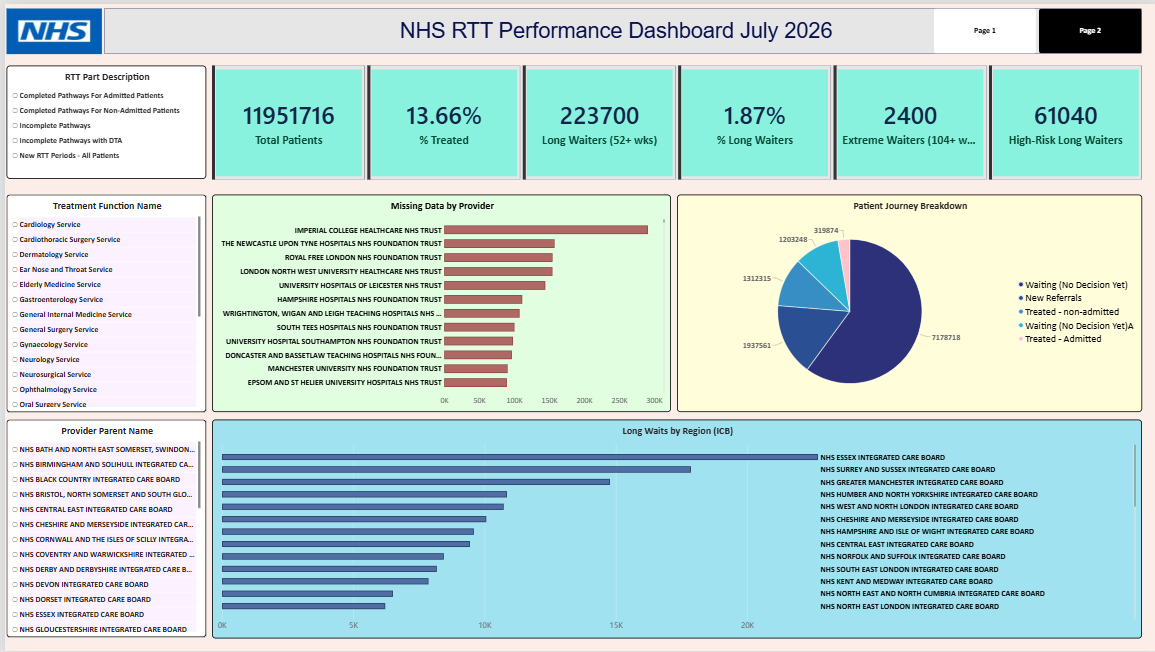

The dashboard page shown, as its layout file describes it:
{"tool":"powerbi","page":{"name":"Page 2","canvas":[3840,2160],"ordinal":1},"visuals":[{"type":"cardVisual","fields":{"Data":["NHS_Rtt.Total patient","NHS_Rtt.Percentage_of_Patients_Treated","NHS_Rtt.Long_Wait_volume","NHS_Rtt.Percentage_long_wait_volume","NHS_Rtt.Extreme_long_wait","NHS_Rtt.High_risk_long_wait"]},"box":[690,205,3100,380],"z":0},{"type":"shape","box":[331.1,16.7,3458.9,150],"z":1000},{"type":"clusteredBarChart","title":"Missing Data by Provider","fields":{"Category":["NHS_Rtt.Provider Org Name"],"Y":["NHS_Rtt.Total Null Count"]},"box":[690,635,1530,725],"z":5000},{"type":"pieChart","title":"Patient Journey Breakdown","fields":{"Category":["NHS_Rtt.RTT Part Type Duplicate"],"Y":["NHS_Rtt.Total patient"]},"box":[2238,634.7,1550.8,725.3],"z":6000},{"type":"barChart","title":"Long Waits by Region (ICB)","fields":{"Category":["NHS_Rtt.Provider Parent Name"],"Y":["NHS_Rtt.Long_Wait_volume"]},"box":[690,1385,3100,730],"z":8000},{"type":"image","box":[6,14,318,152],"z":9000},{"type":"textbox","box":[332,46,3414,120],"z":10000},{"type":"pageNavigator","box":[3095,15,695,150],"z":11000},{"type":"listSlicer","fields":{"Values":["NHS_Rtt.RTT Part Description"]},"box":[4.3,206.3,666.1,378.2],"z":11001},{"type":"listSlicer","fields":{"Values":["NHS_Rtt.Treatment Function Name"]},"box":[4.3,636,666.1,726.2],"z":11002},{"type":"listSlicer","fields":{"Values":["NHS_Rtt.Provider Parent Name"]},"box":[4.3,1383.7,666.1,726.2],"z":11003}]}

Visuals, with their boxes in screenshot pixels (x1, y1, x2, y2), scaled from the page's 3840x2160 canvas onto the 1155x652 screenshot:
cardVisual - NHS_Rtt.Total patient x NHS_Rtt.Percentage_of_Patients_Treated: (208,62,1140,177)
shape: (100,5,1140,50)
"Missing Data by Provider" clusteredBarChart: (208,192,668,411)
"Patient Journey Breakdown" pieChart: (673,192,1140,411)
"Long Waits by Region (ICB)" barChart: (208,418,1140,638)
image: (2,4,97,50)
textbox: (100,14,1127,50)
pageNavigator: (931,5,1140,50)
listSlicer - NHS_Rtt.RTT Part Description: (1,62,202,176)
listSlicer - NHS_Rtt.Treatment Function Name: (1,192,202,411)
listSlicer - NHS_Rtt.Provider Parent Name: (1,418,202,637)
